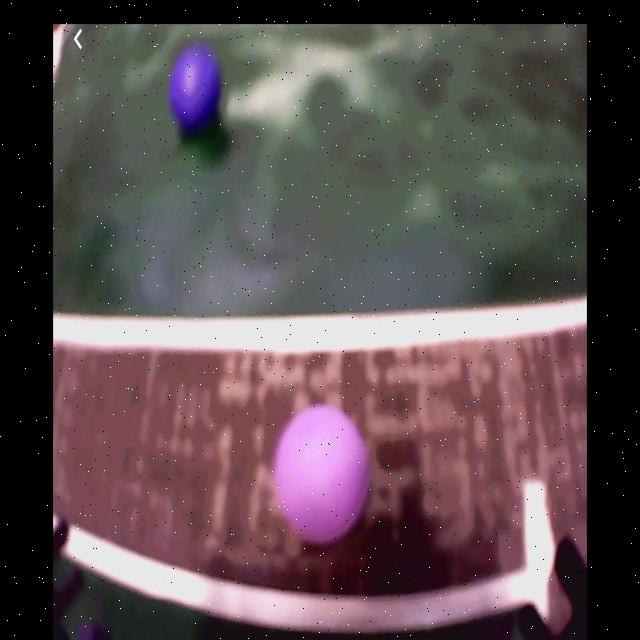ball: (273, 403, 370, 548), (168, 44, 221, 132)
